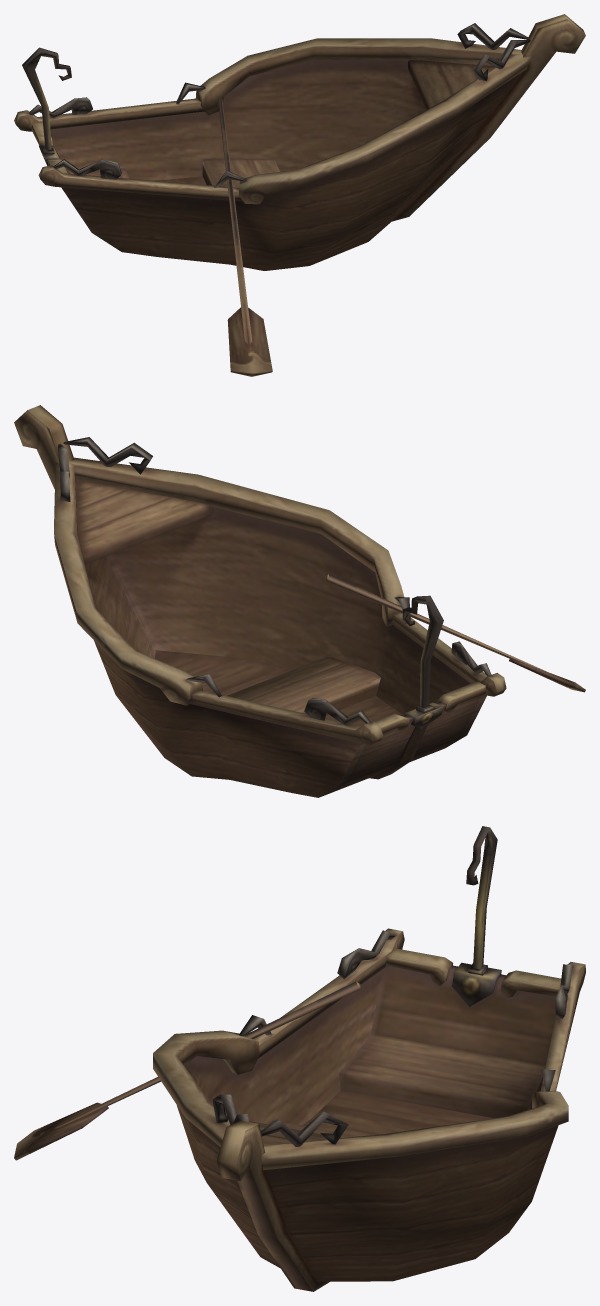
The model's file is Anmaodao_chuan.FBX.
3 views of the same model, one above another, from view 1: azimuth 30°, elevation 25°; view 2: azimuth 150°, elevation 25°; view 3: azimuth 270°, elevation 25° (orthographic). The views are drawn at different scales.
Visible parts, largest first — view 1: Anmaodao_chuan; view 2: Anmaodao_chuan; view 3: Anmaodao_chuan.
Boxes of the visible parts, box(x1,y1,x2,y2) form: Anmaodao_chuan: box(14, 14, 585, 376); Anmaodao_chuan: box(14, 405, 585, 797); Anmaodao_chuan: box(14, 826, 585, 1291).
Bounding box in the file's own units: 203 × 151 × 85.88.
